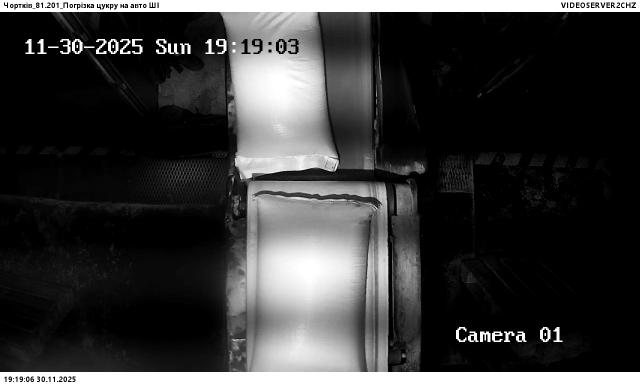bag: (253, 193, 378, 372), (220, 12, 341, 179)
